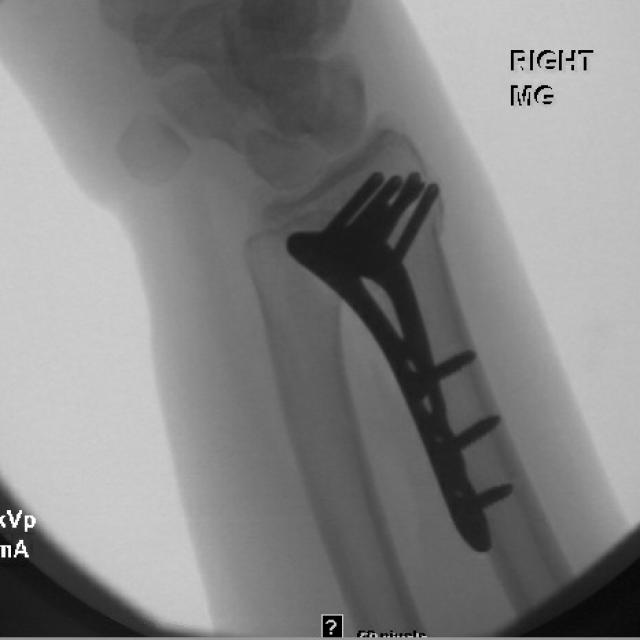x-ray: (275, 156, 522, 562)
